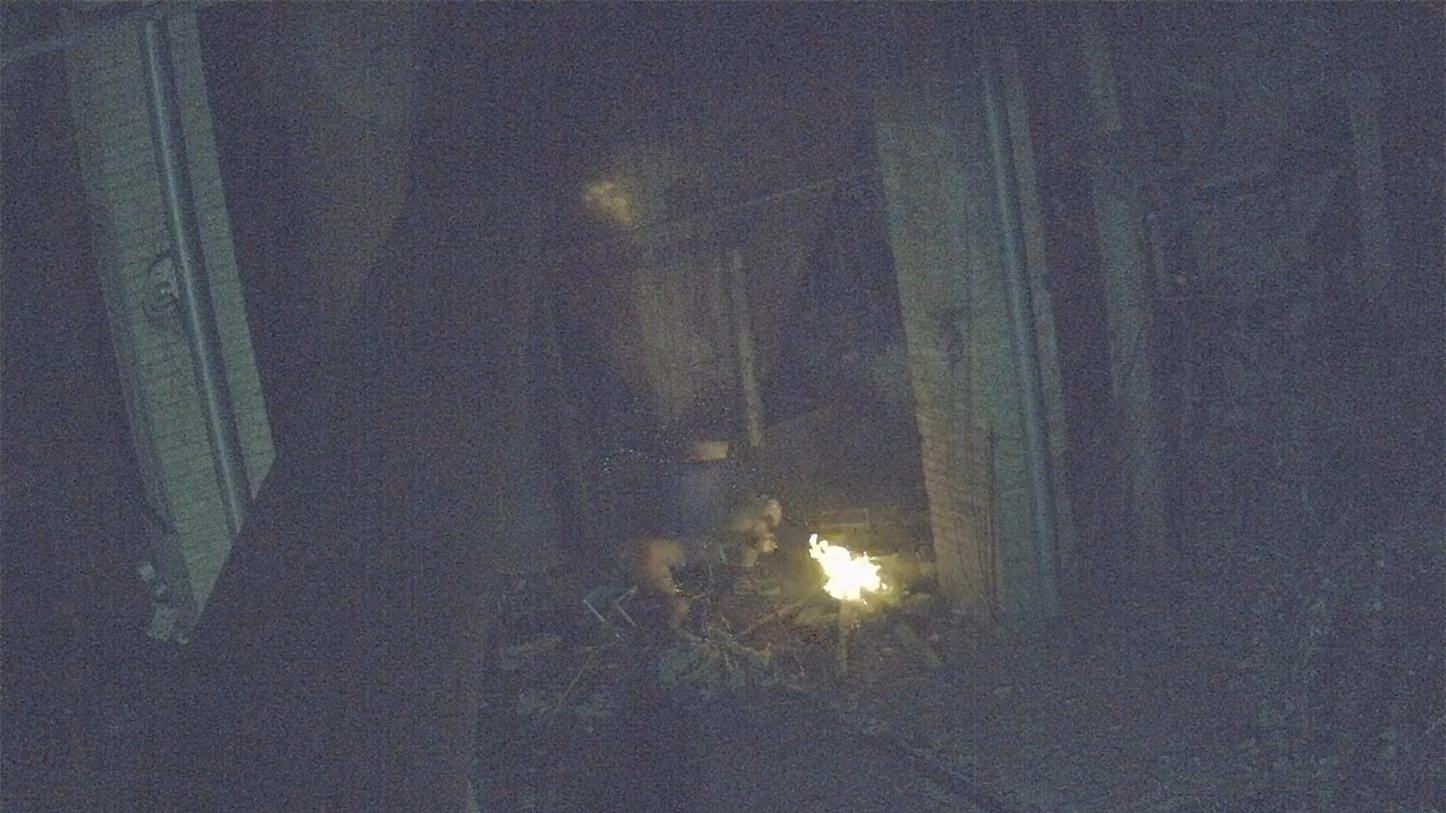fire: (810, 535, 883, 601)
